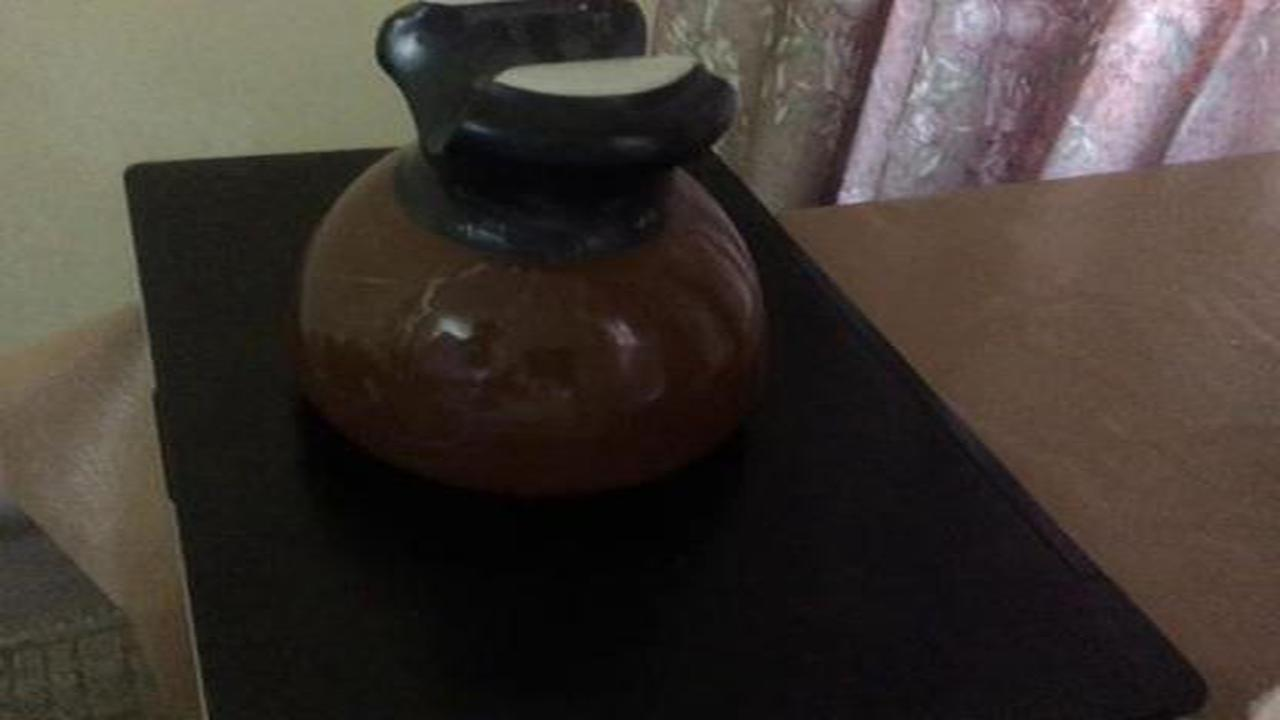insulator_pin: (262, 7, 813, 521)
